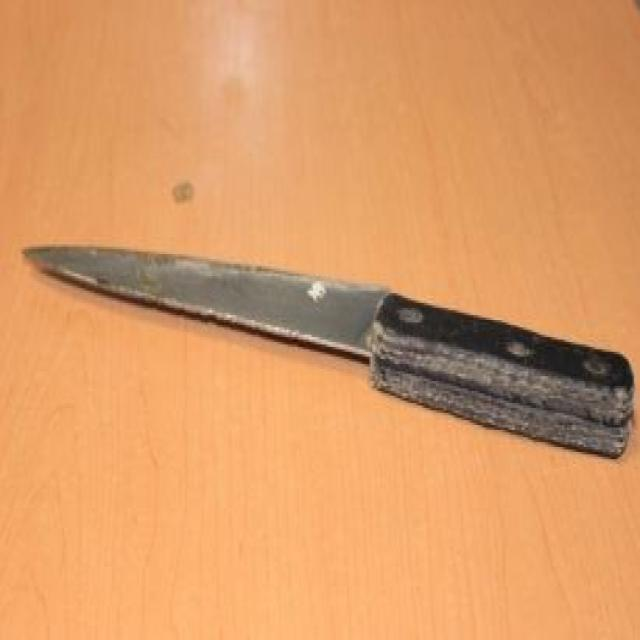knife: (22, 240, 636, 465)
